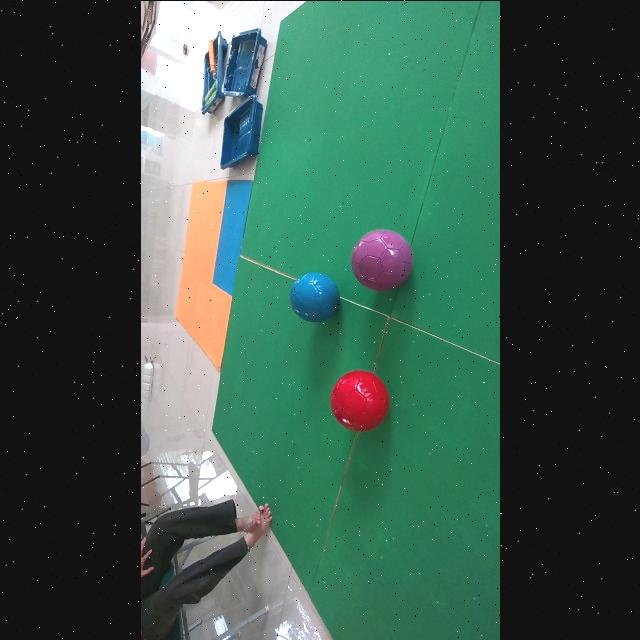B: (290, 271, 339, 322)
P: (351, 229, 412, 290)
R: (329, 369, 389, 430)
